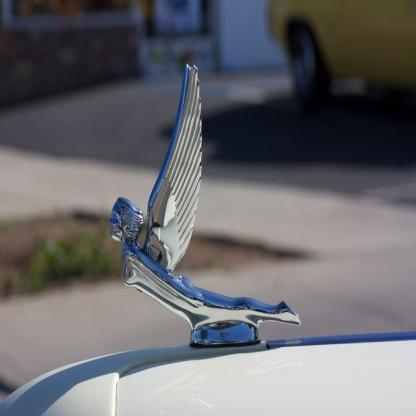Car: (1, 62, 416, 416), (266, 1, 416, 104)
